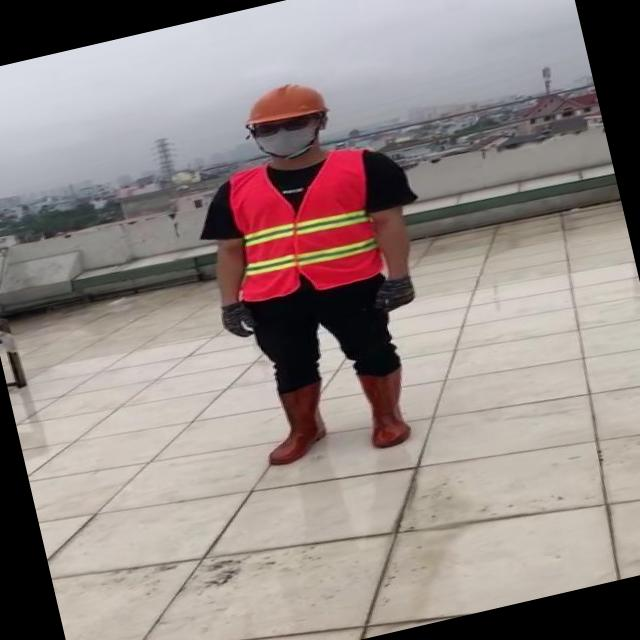boots: (248, 378, 338, 468), (354, 364, 420, 450)
gloves: (366, 259, 432, 327), (201, 287, 264, 346)
helmet: (236, 72, 331, 130)
vest: (216, 144, 389, 304)
